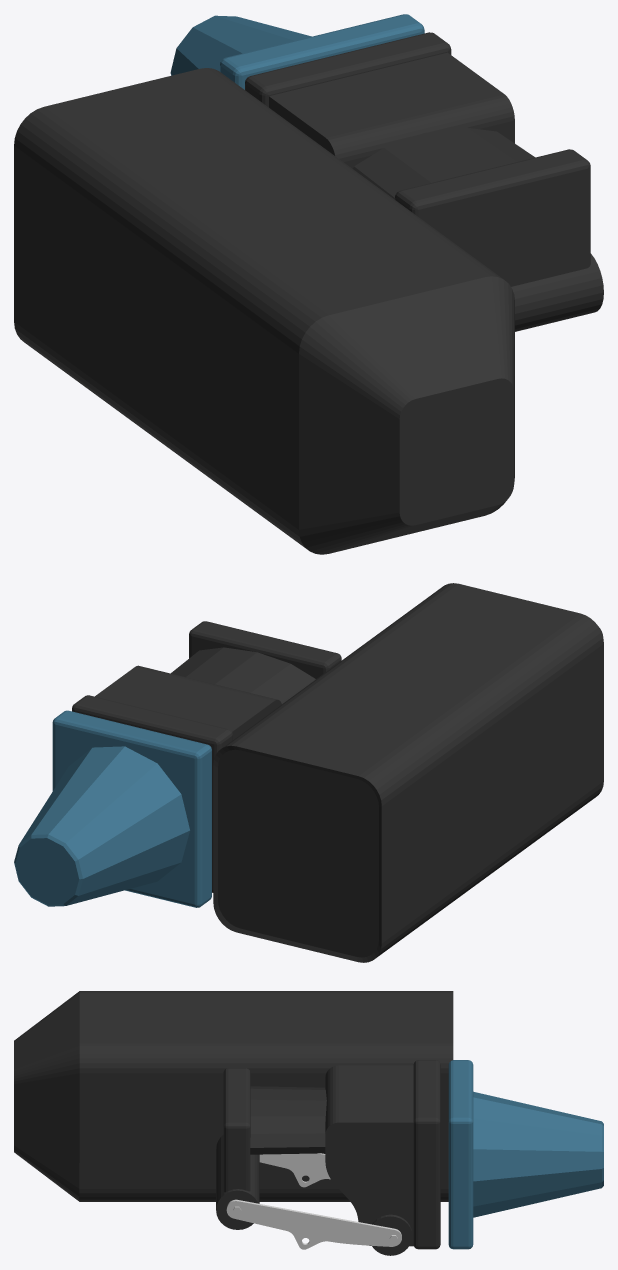
3 renders of one model, top to bottom at view 1: azimuth 30°, elevation 25°; view 2: azimuth 150°, elevation 25°; view 3: azimuth 270°, elevation 25°, orthographic. The views are drawn at different scales.
Parts seen in each view (by area): view 1: 对象002; view 2: 对象002; view 3: 对象002.
Boxes of the visible parts, x1,y1,x2,y2 form: 对象002: (14,14,603,554); 对象002: (14,583,603,962); 对象002: (14,991,603,1255).
Bounding box in the file's own units: 10.21 × 5.6 × 19.13.
